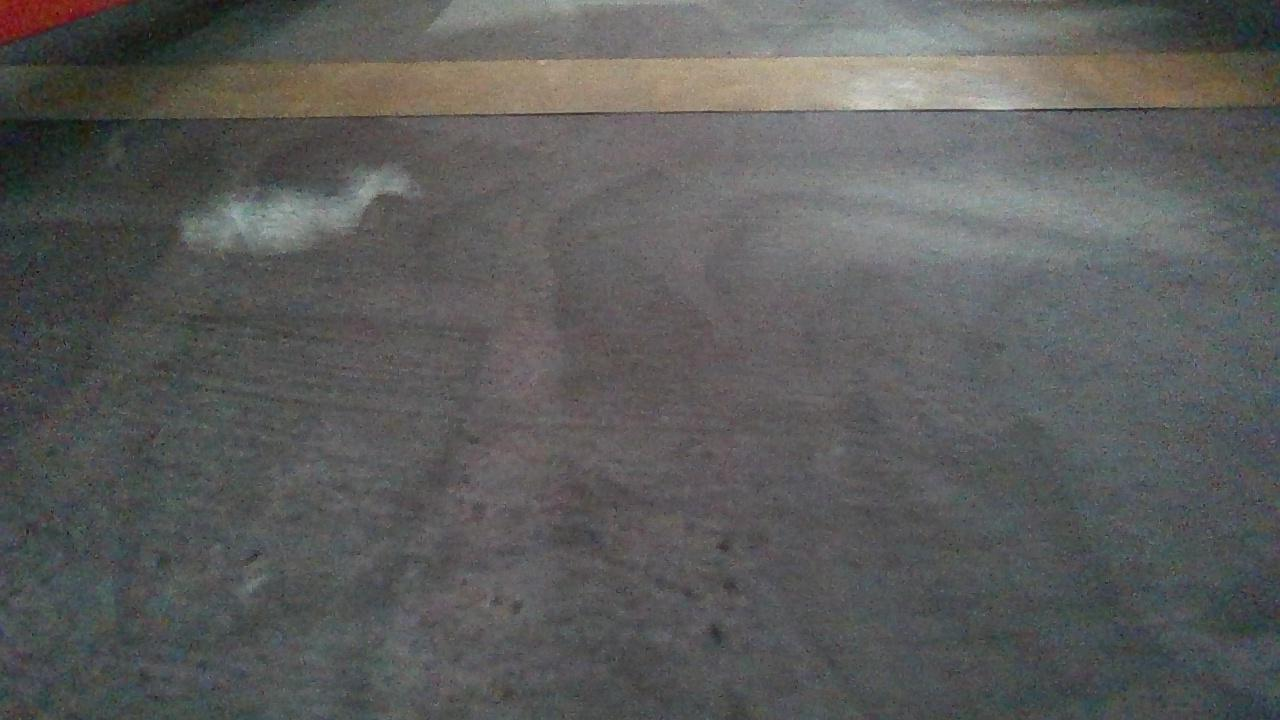yellow_line: (0, 52, 1278, 123)
